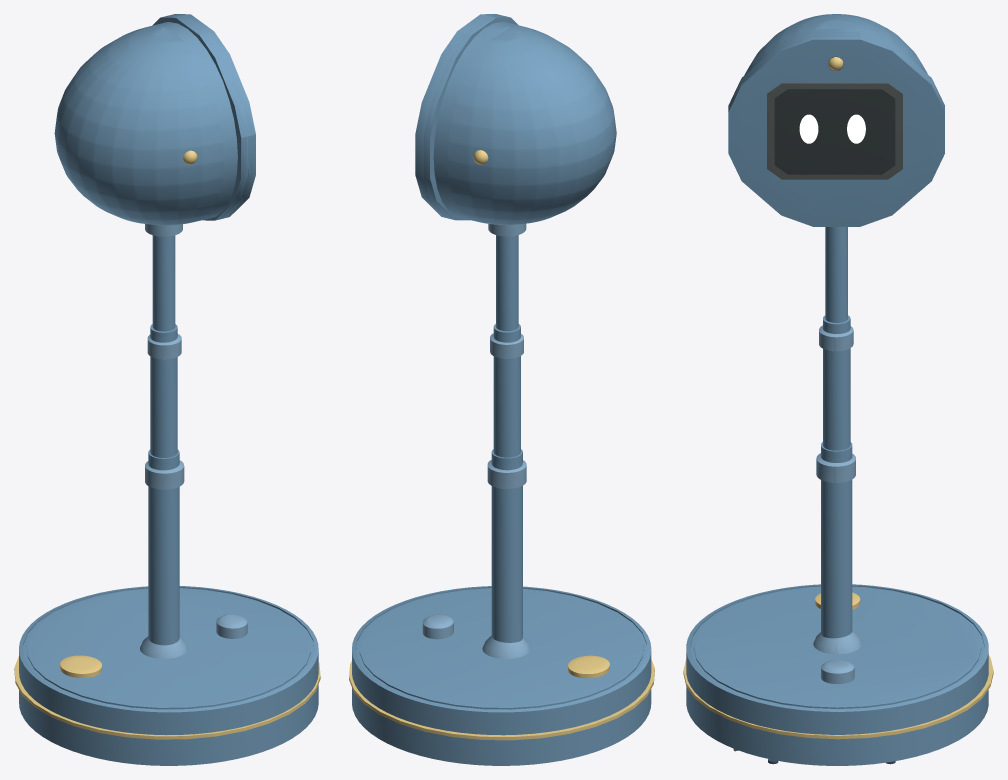
File: domovoy_sinij.glb
3 views of the same model, side by side, from view 1: azimuth 30°, elevation 25°; view 2: azimuth 150°, elevation 25°; view 3: azimuth 270°, elevation 25° (orthographic).
Visible parts, largest first — view 1: teal, teal2, copper; view 2: teal, teal2, copper; view 3: teal, screen, teal2, dark, copper, glow.
Boxes of the visible parts, x1,y1,x2,y2 form: teal: [19, 14, 318, 765]; teal2: [140, 224, 247, 658]; copper: [14, 150, 320, 739]; teal: [352, 14, 651, 765]; teal2: [422, 223, 530, 658]; copper: [349, 150, 654, 740]; teal: [686, 14, 988, 765]; screen: [774, 89, 895, 174]; teal2: [813, 227, 861, 684]; dark: [733, 83, 902, 751]; copper: [683, 57, 993, 739]; glow: [799, 114, 865, 143].
Bounding box in the file's own units: 0.3584 × 0.8835 × 0.359.
